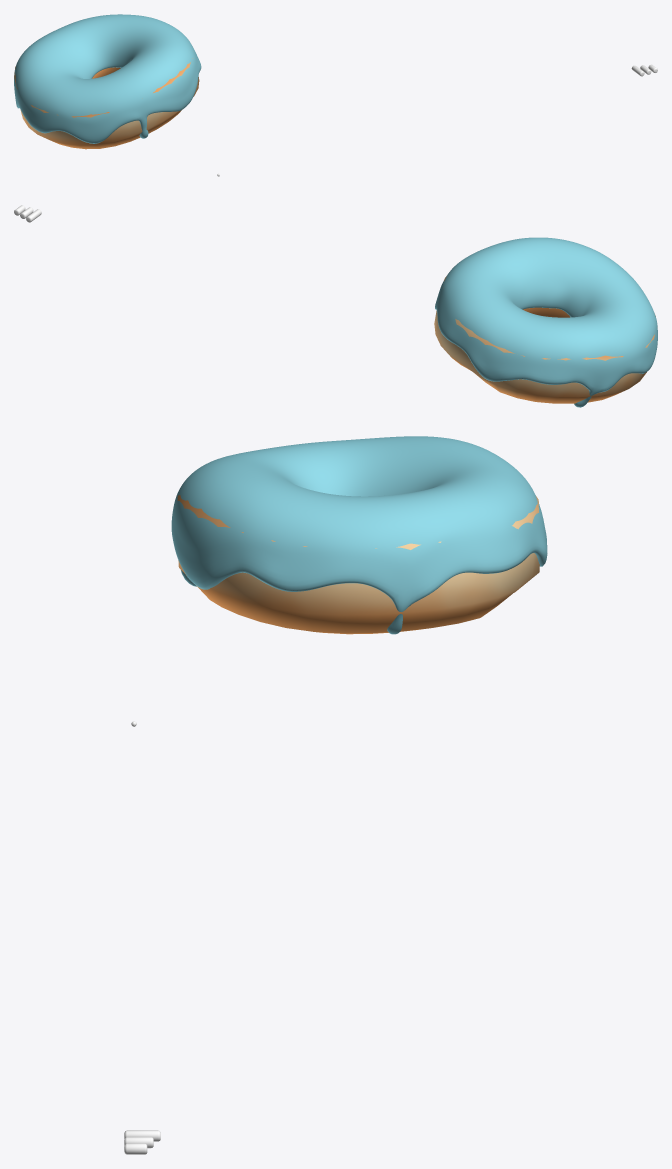
File: Donut(Single).glb
3 renders of one model, top to bottom at view 1: azimuth 30°, elevation 25°; view 2: azimuth 150°, elevation 25°; view 3: azimuth 270°, elevation 25°, orthographic. The views are drawn at different scales.
Visible parts, largest first — view 1: Icing.006, Round.001; view 2: Icing.006, Round.001; view 3: Icing.006, Round.001.
Boxes of the visible parts, x1,y1,x2,y2 form: Icing.006: [14, 14, 201, 143]; Round.001: [14, 58, 199, 149]; Icing.006: [435, 237, 657, 407]; Round.001: [434, 276, 655, 403]; Icing.006: [171, 436, 547, 634]; Round.001: [177, 495, 539, 634].
Size of the model in its own units: 0.4872 by 0.0908 by 0.1556.
3 materials, 1 textured.
